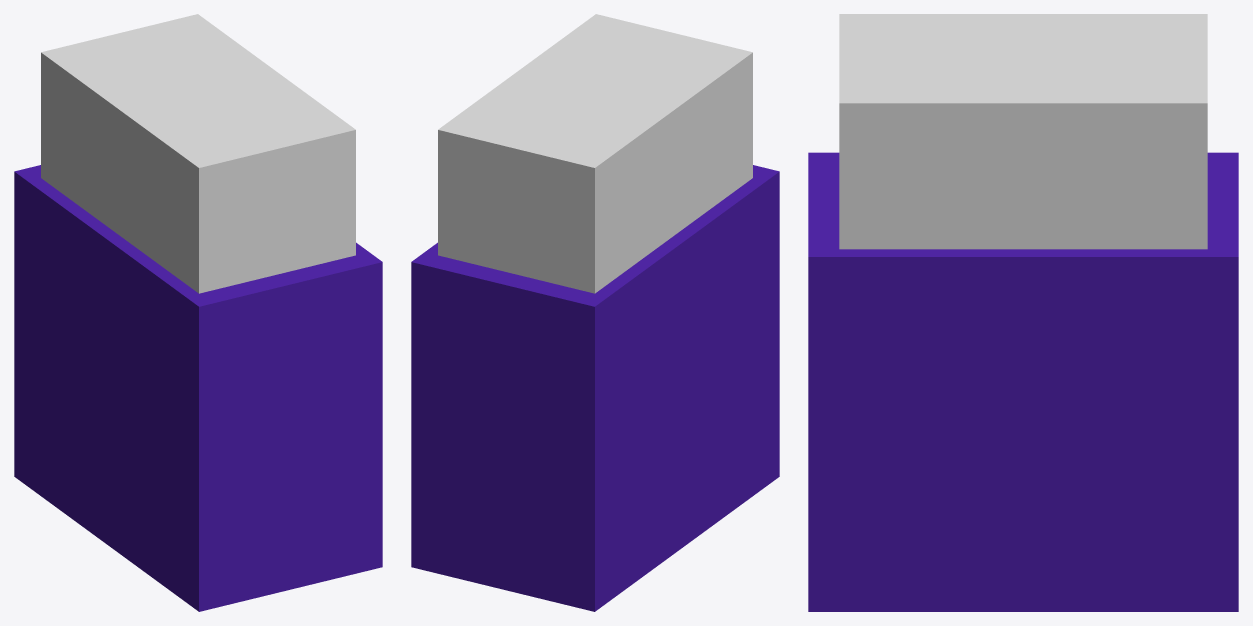
File: Eraser.fbx
3 renders of one model, left to right at view 1: azimuth 30°, elevation 25°; view 2: azimuth 150°, elevation 25°; view 3: azimuth 270°, elevation 25°, orthographic. The views are drawn at different scales.
Parts seen in each view (by area): view 1: 立方体, 立方体.001; view 2: 立方体, 立方体.001; view 3: 立方体, 立方体.001.
Boxes of the visible parts, bbox=[...] form: 立方体: bbox=[14, 165, 382, 611]; 立方体.001: bbox=[41, 14, 355, 293]; 立方体: bbox=[411, 165, 779, 611]; 立方体.001: bbox=[438, 14, 752, 293]; 立方体: bbox=[808, 152, 1238, 611]; 立方体.001: bbox=[839, 14, 1207, 249].
Bounding box in the file's own units: 0.4225 × 0.9471 × 0.7369.
